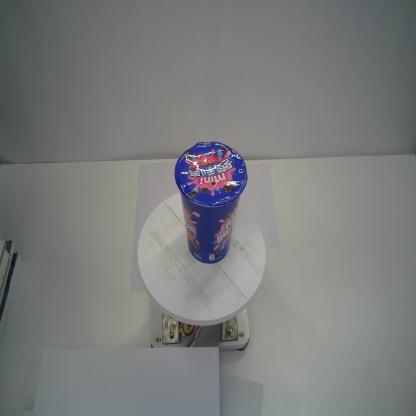Dessert: (174, 140, 248, 263)
